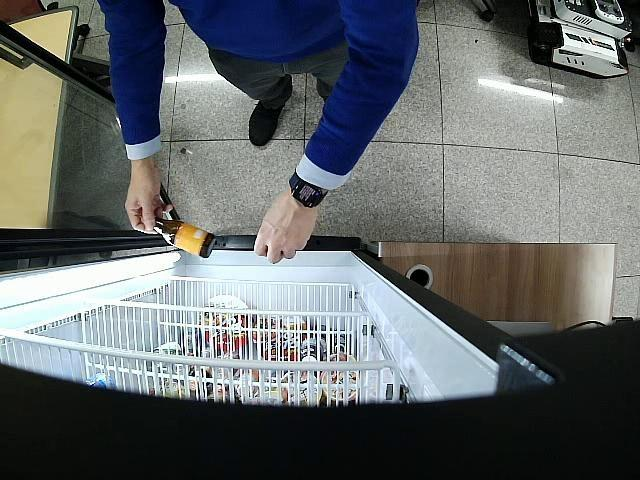17_vita500: (142, 216, 217, 258)
